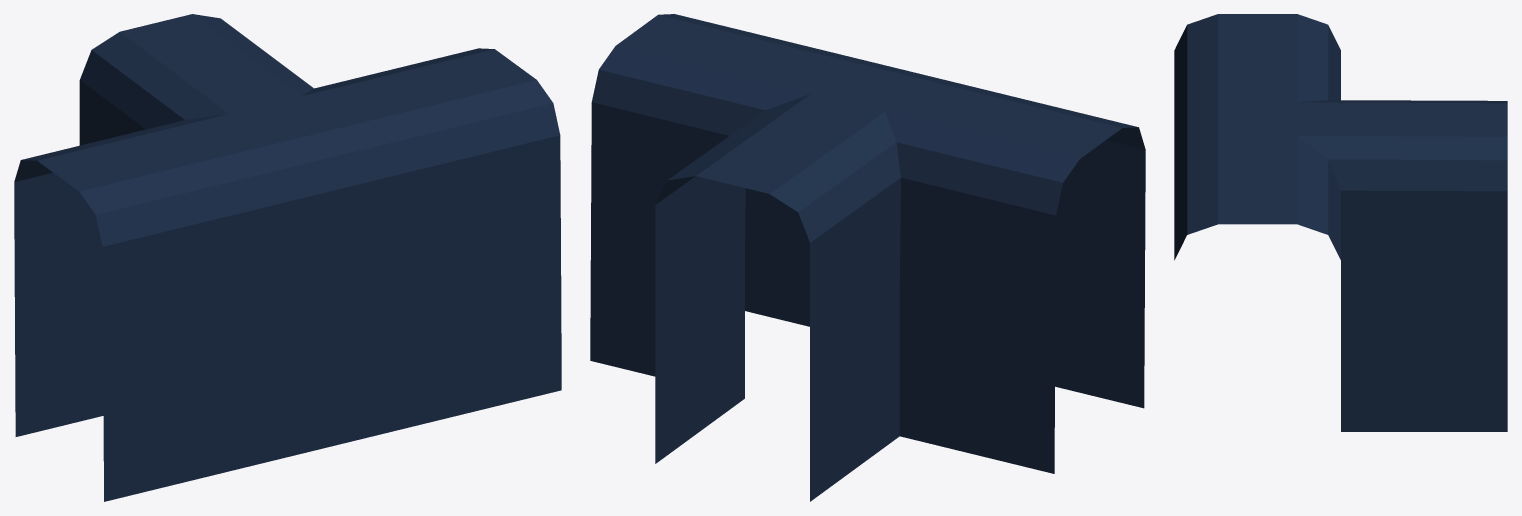
Rendered from Wall_Segment_T.fbx.
3 renders of one model, left to right at view 1: azimuth 30°, elevation 25°; view 2: azimuth 150°, elevation 25°; view 3: azimuth 270°, elevation 25°, orthographic. The views are drawn at different scales.
Parts seen in each view (by area): view 1: SmallWallCross; view 2: SmallWallCross; view 3: SmallWallCross.
Boxes of the visible parts, x1,y1,x2,y2 form: SmallWallCross: [14, 14, 561, 501]; SmallWallCross: [590, 14, 1145, 501]; SmallWallCross: [1174, 14, 1507, 431].
Size of the model in its own units: 90 by 55 by 60.
